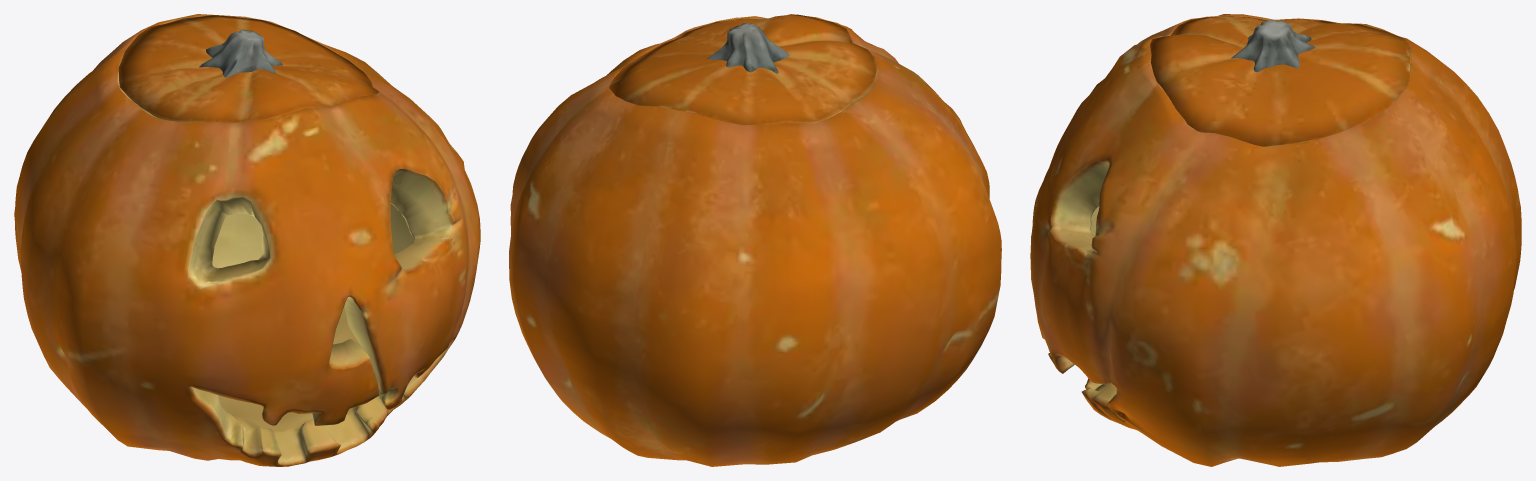
The model's file is citrouille.glb.
3 views of the same model, side by side, from view 1: azimuth 30°, elevation 25°; view 2: azimuth 150°, elevation 25°; view 3: azimuth 270°, elevation 25° (orthographic). The views are drawn at different scales.
Parts seen in each view (by area): view 1: Object_2; view 2: Object_2; view 3: Object_2.
Part boxes in pixels (box(x1,y1,x2,y2)): Object_2: box(14, 14, 480, 466); Object_2: box(509, 14, 1001, 466); Object_2: box(1030, 14, 1521, 466).
Size of the model in its own units: 0.4014 by 0.3594 by 0.399.
1 material, 1 textured.
